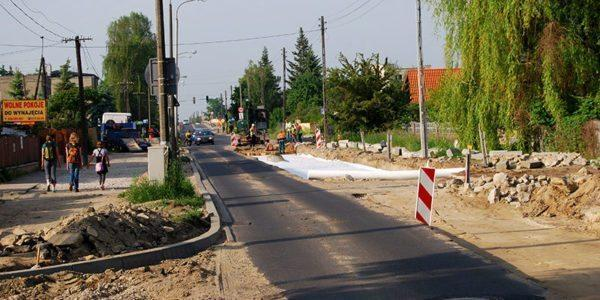car: (192, 127, 224, 151)
indicator: (1, 100, 48, 125)
person: (37, 131, 64, 193), (64, 131, 89, 193), (90, 137, 115, 188), (274, 128, 291, 158), (247, 120, 261, 147)
roadcone: (413, 163, 442, 228)
undergroundlamp: (148, 0, 186, 168)
